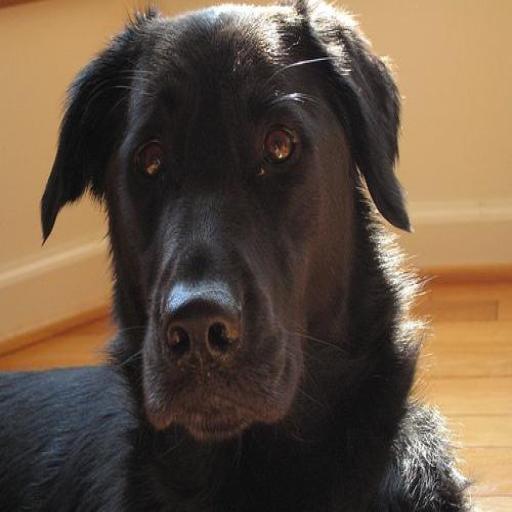dog_face: (58, 17, 411, 417)
